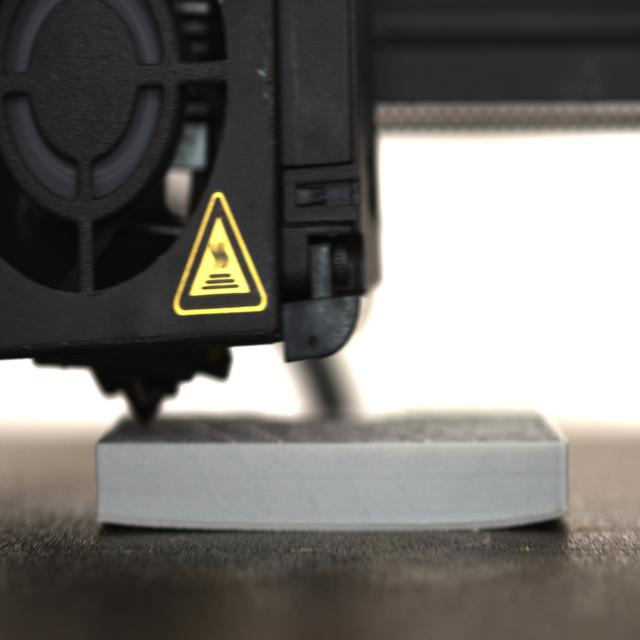Warping: (507, 504, 569, 536)
